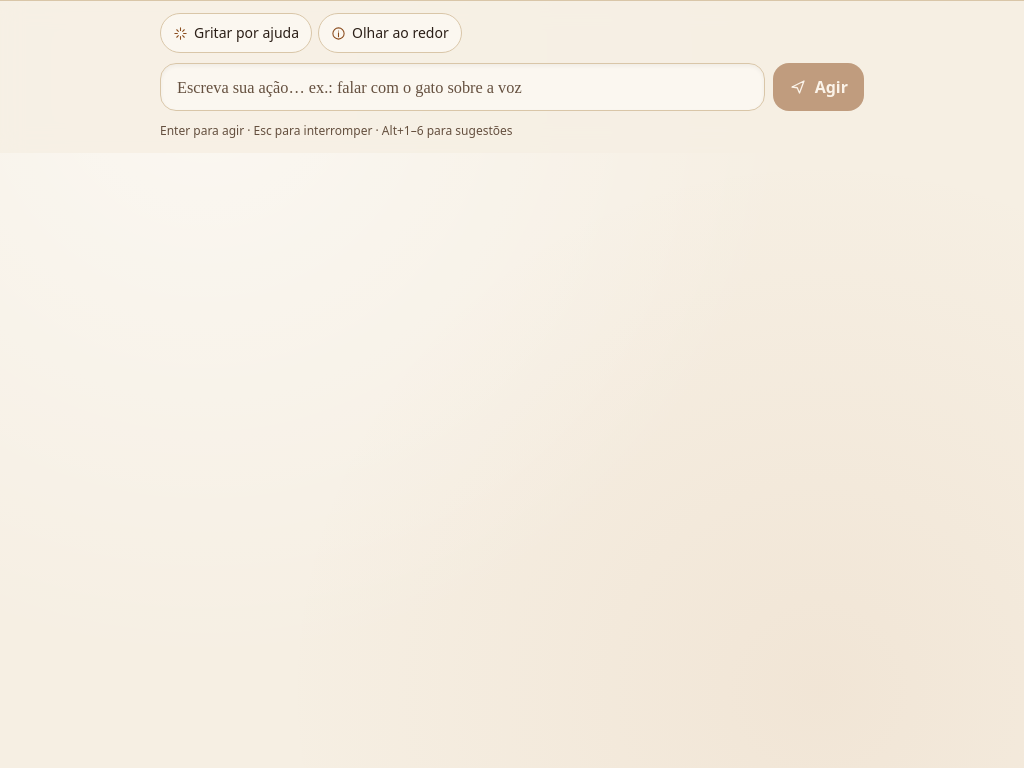
it: Composer › recalls previous actions with the up arrow
Click the text box named "O que você quer fazer?": x=462, y=87 [160, 63, 765, 111]
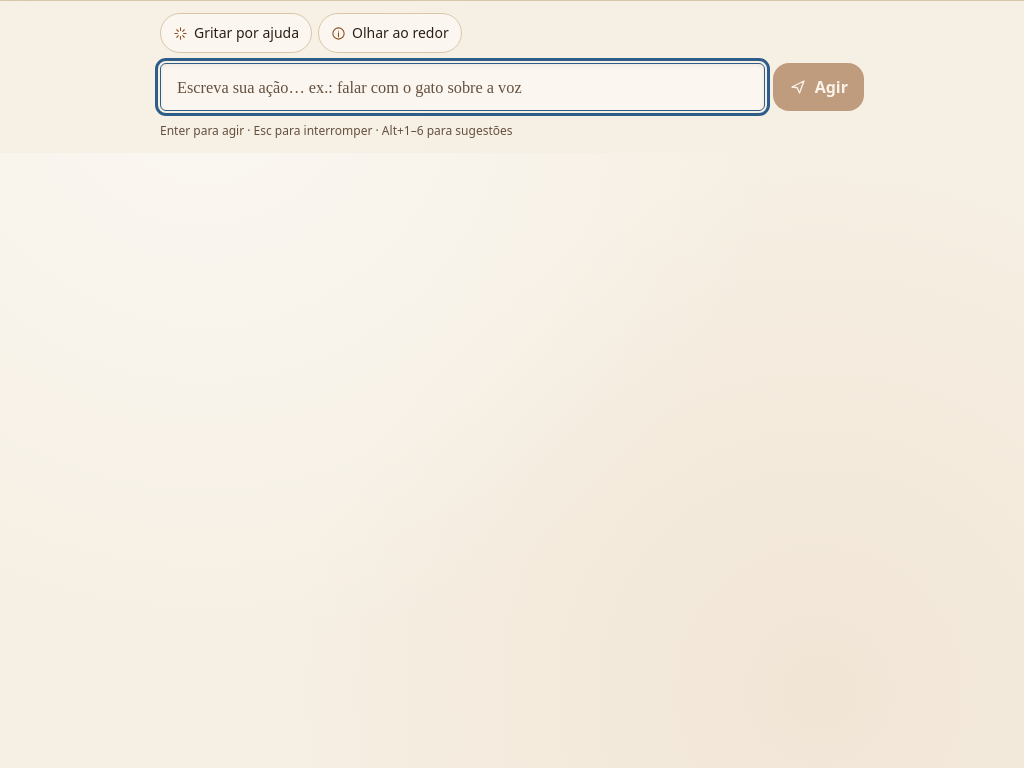
Press Arrowup
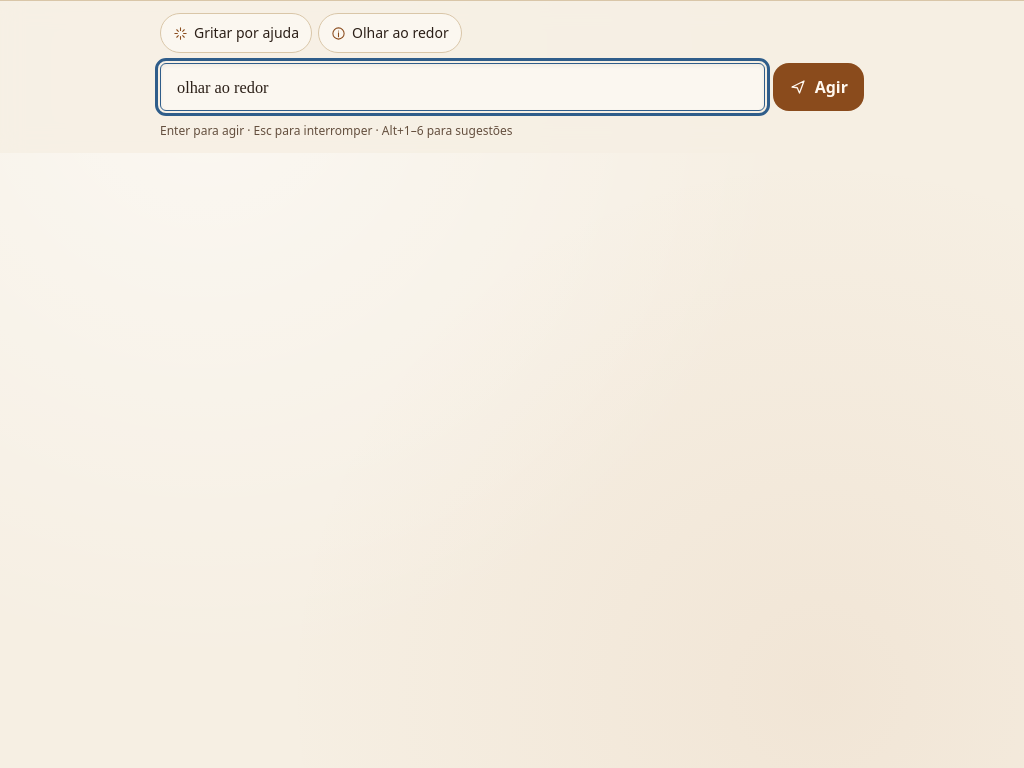
Result: the text box named "O que você quer fazer?" holds "olhar ao redor" at [160, 63, 765, 111]
